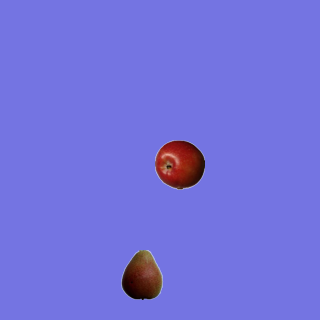Apple Braeburn: (154, 139, 204, 189)
Pear Forelle: (116, 249, 166, 299)
